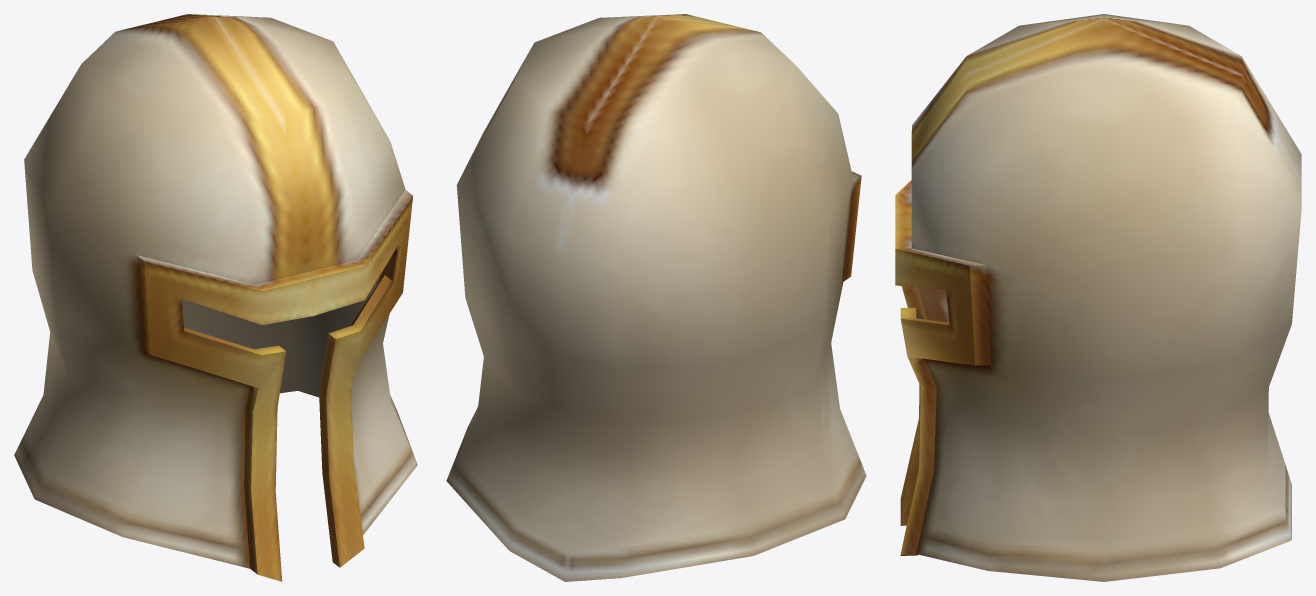
File: helmet.FBX
The picture shows the model from 3 angles, left to right: view 1: azimuth 30°, elevation 25°; view 2: azimuth 150°, elevation 25°; view 3: azimuth 270°, elevation 25°; orthographic projection. The views are drawn at different scales.
Parts seen in each view (by area): view 1: helmet; view 2: helmet; view 3: helmet.
Boxes of the visible parts, bbox=[...] form: helmet: bbox=[14, 14, 417, 581]; helmet: bbox=[446, 14, 866, 581]; helmet: bbox=[895, 14, 1301, 581].
Bounding box in the file's own units: 33.53 × 43.1 × 30.42.
